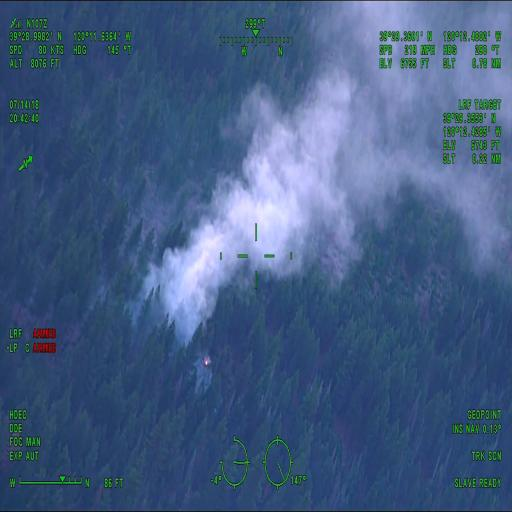smoke: (265, 95, 352, 186), (353, 81, 400, 218), (226, 179, 298, 264), (167, 236, 210, 323)
